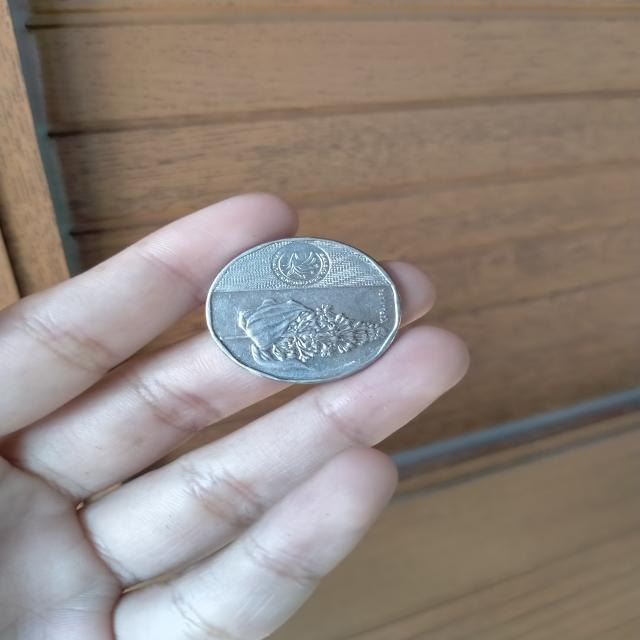10_New_Back: (216, 290, 402, 376)
